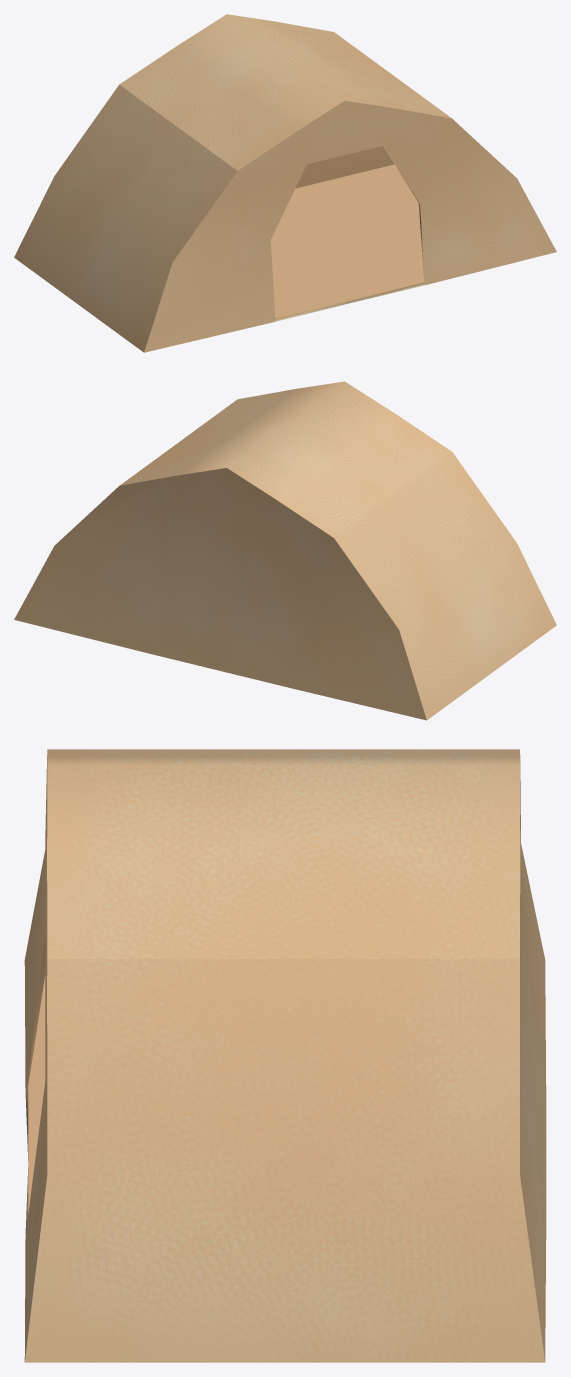
File: Tent_Large.fbx
The picture shows the model from 3 angles, top to bottom: view 1: azimuth 30°, elevation 25°; view 2: azimuth 150°, elevation 25°; view 3: azimuth 270°, elevation 25°; orthographic projection. The views are drawn at different scales.
Visible parts, largest first — view 1: Tent_Large; view 2: Tent_Large; view 3: Tent_Large.
Boxes of the visible parts, x1=… form: Tent_Large: x1=14, y1=14, x2=556, y2=352; Tent_Large: x1=14, y1=381, x2=556, y2=720; Tent_Large: x1=24, y1=749, x2=546, y2=1362.
Size of the model in its own units: 324 by 149 by 177.
